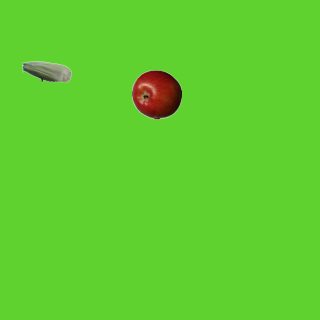Apple Braeburn: (131, 69, 181, 119)
Corn Husk: (21, 46, 71, 96)
